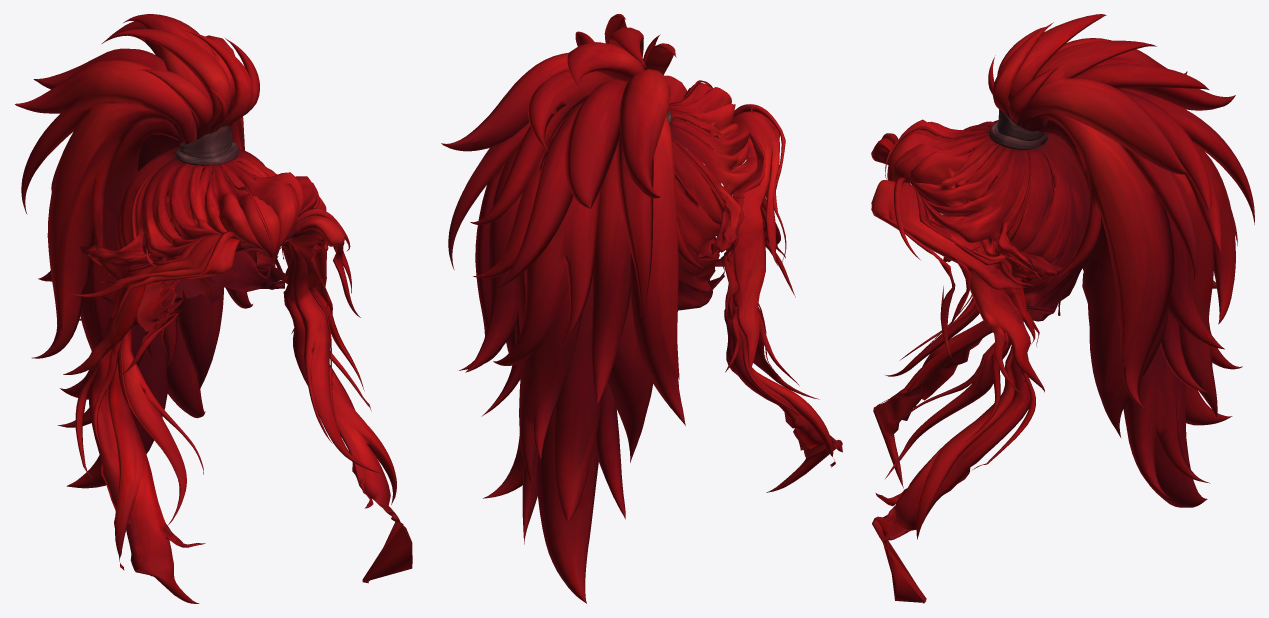
Rendered from hair-01.glb.
3 views of the same model, side by side, from view 1: azimuth 30°, elevation 25°; view 2: azimuth 150°, elevation 25°; view 3: azimuth 270°, elevation 25° (orthographic). The views are drawn at different scales.
Visible parts, largest first — view 1: Hair_01; view 2: Hair_01; view 3: Hair_01.
Boxes of the visible parts, x1,y1,x2,y2 form: Hair_01: (15,14,412,603); Hair_01: (441,14,842,603); Hair_01: (871,14,1254,603).
Size of the model in its own units: 0.4301 by 0.7715 by 0.5112.
Materials: 1 (1 with a texture image).
